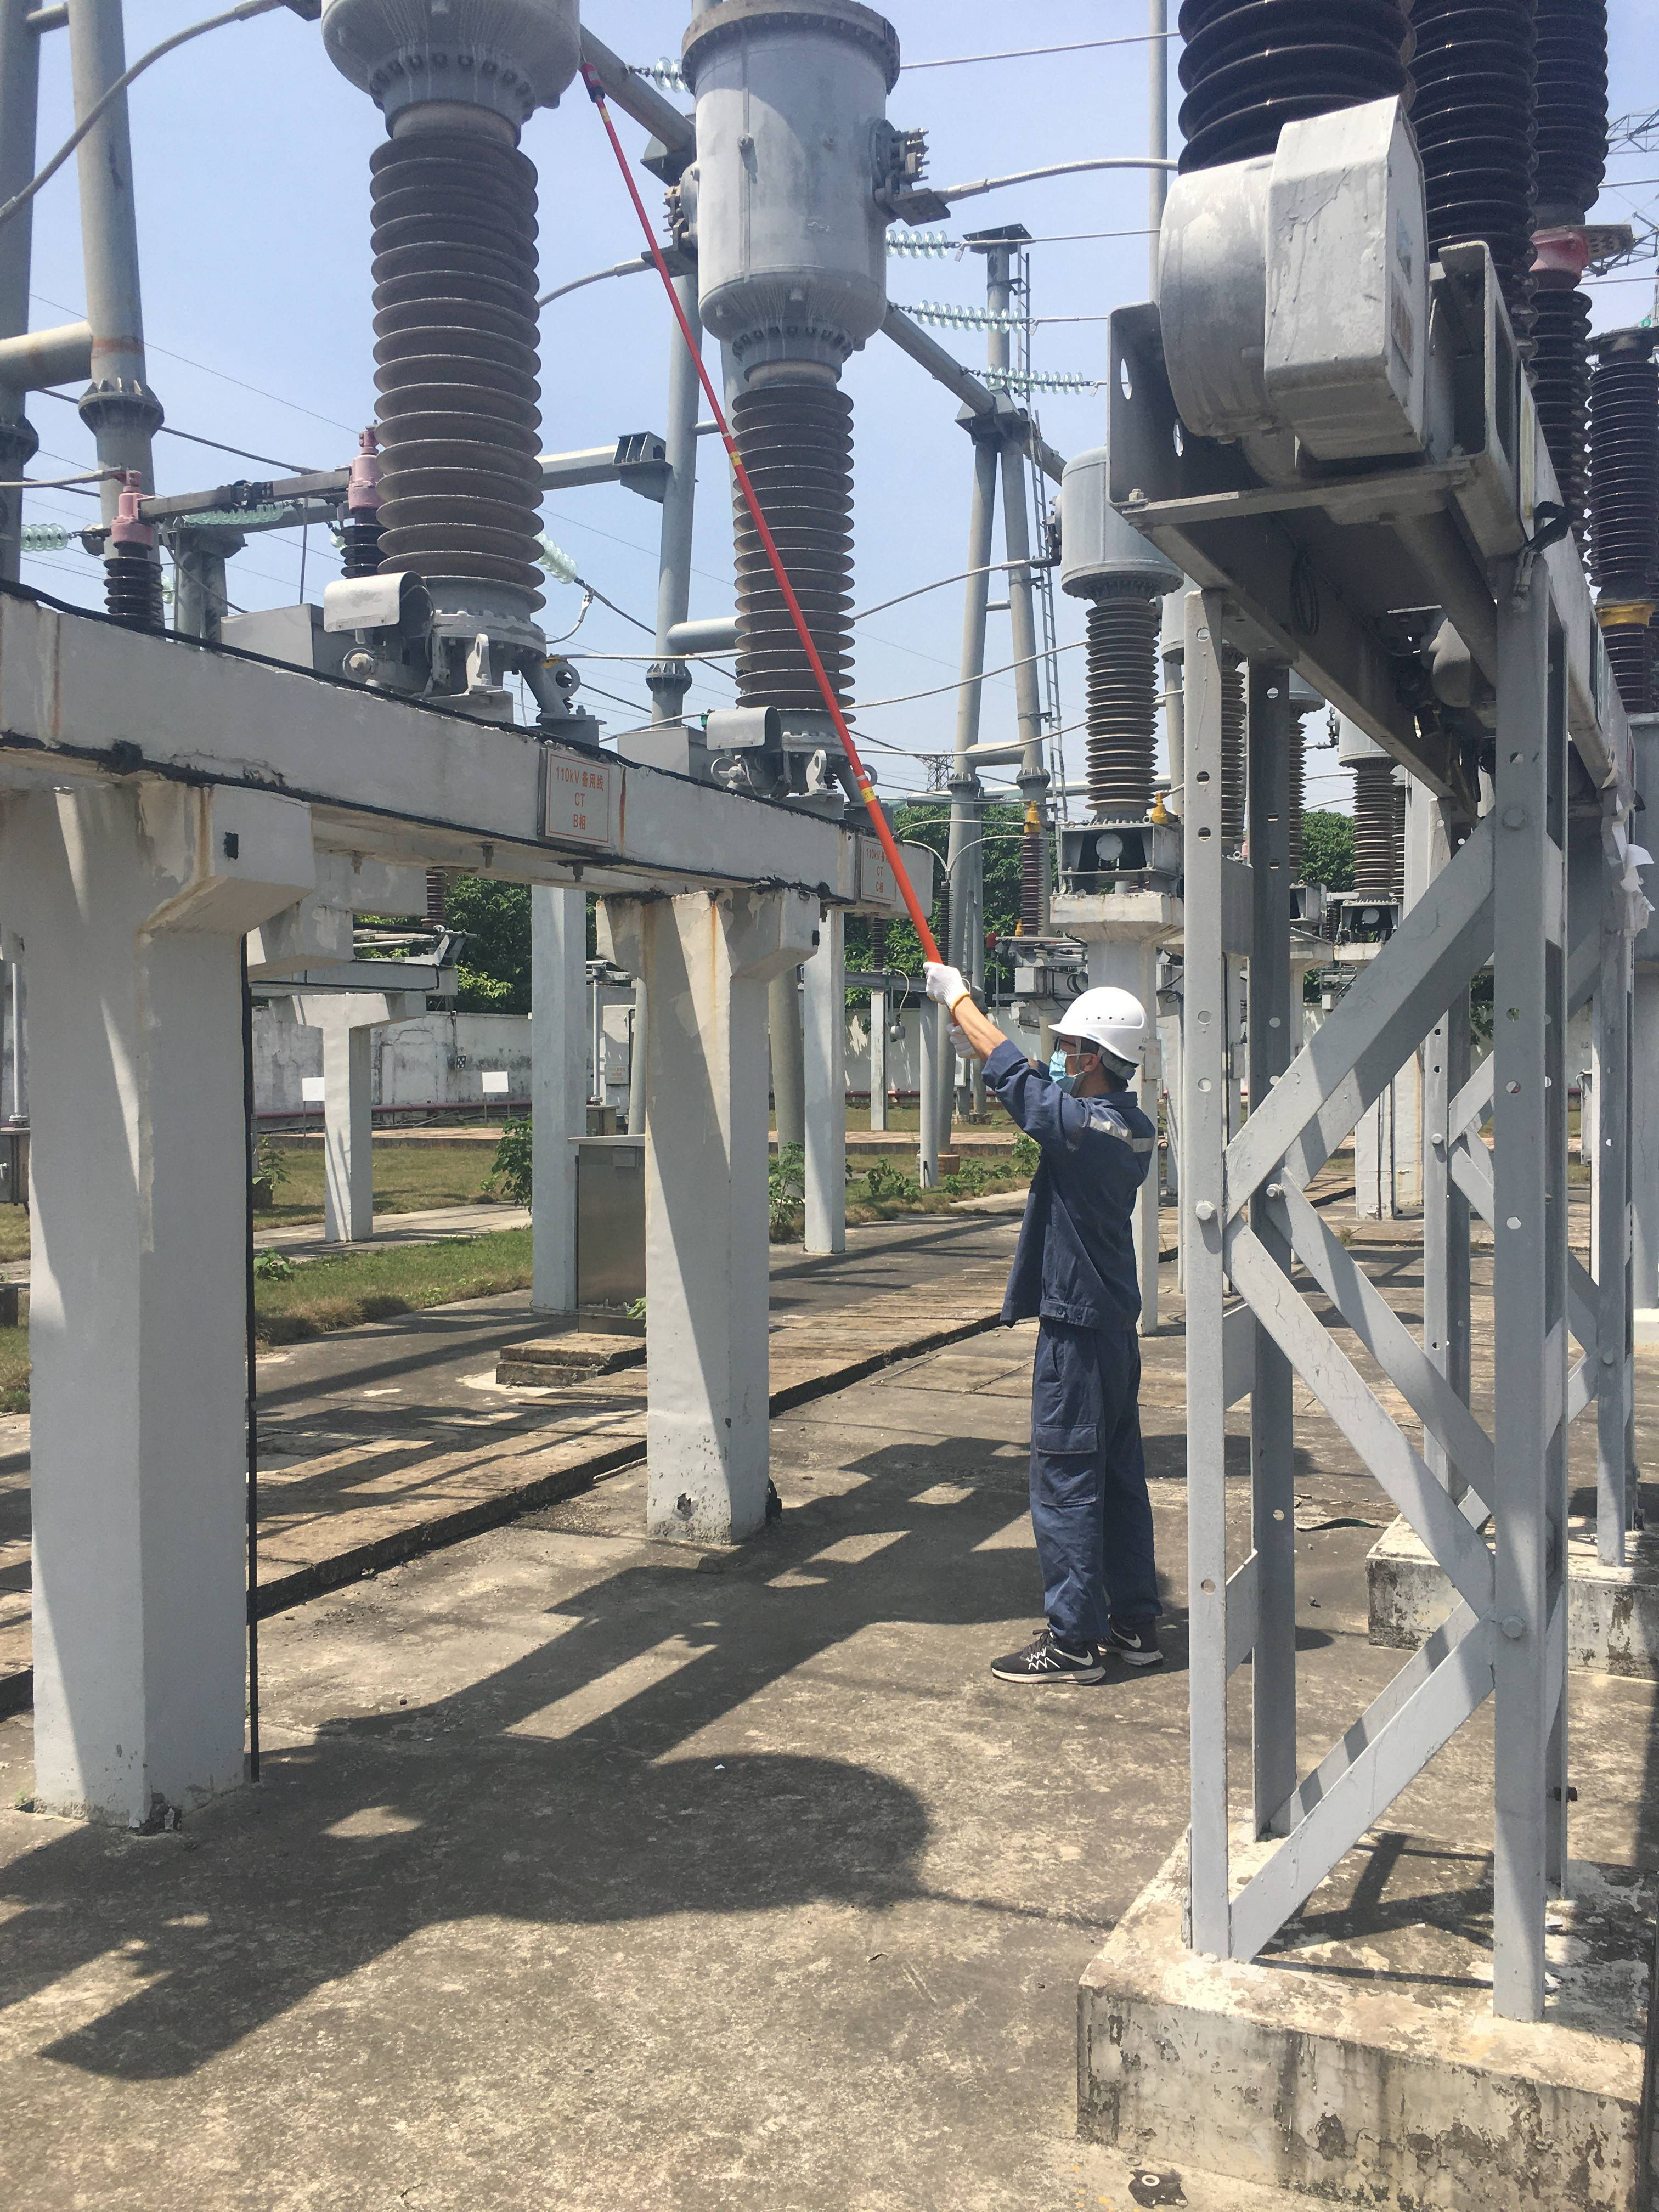downsuit: (1014, 1325, 1168, 1649)
upsuit: (985, 1059, 1164, 1325)
wrongtop: (953, 989, 1018, 1085)
